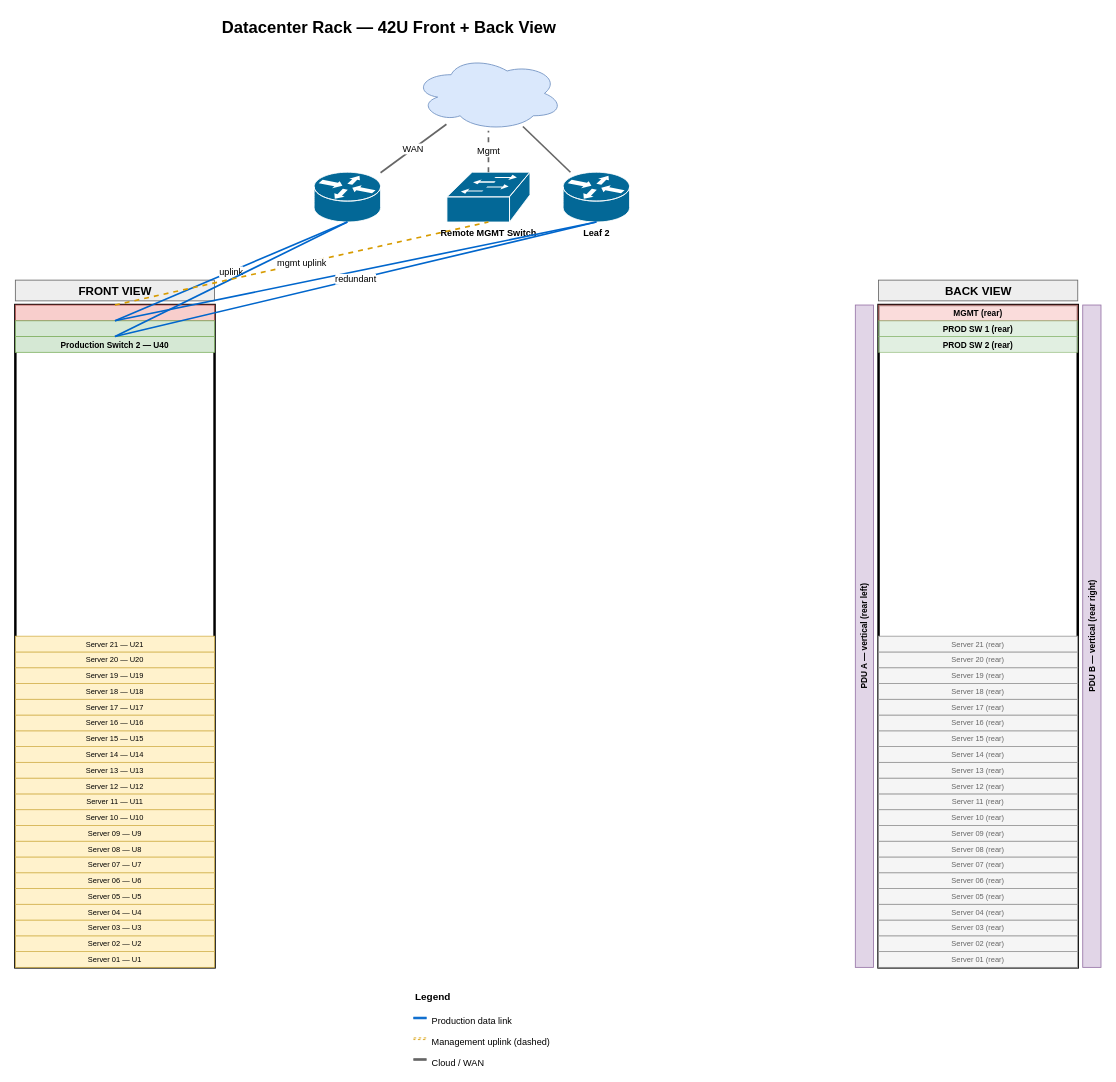
This 1116x1082 diagram has some shape labels left out. The centre of each missing label's shape, as x and y in pixels:
"Internet / WAN Cloud" belongs at (488,93).
"Leaf 1" belongs at (347,196).
"MGMT Switch — U42" belongs at (115,312).
"Production Switch 1 — U41" belongs at (115,328).
